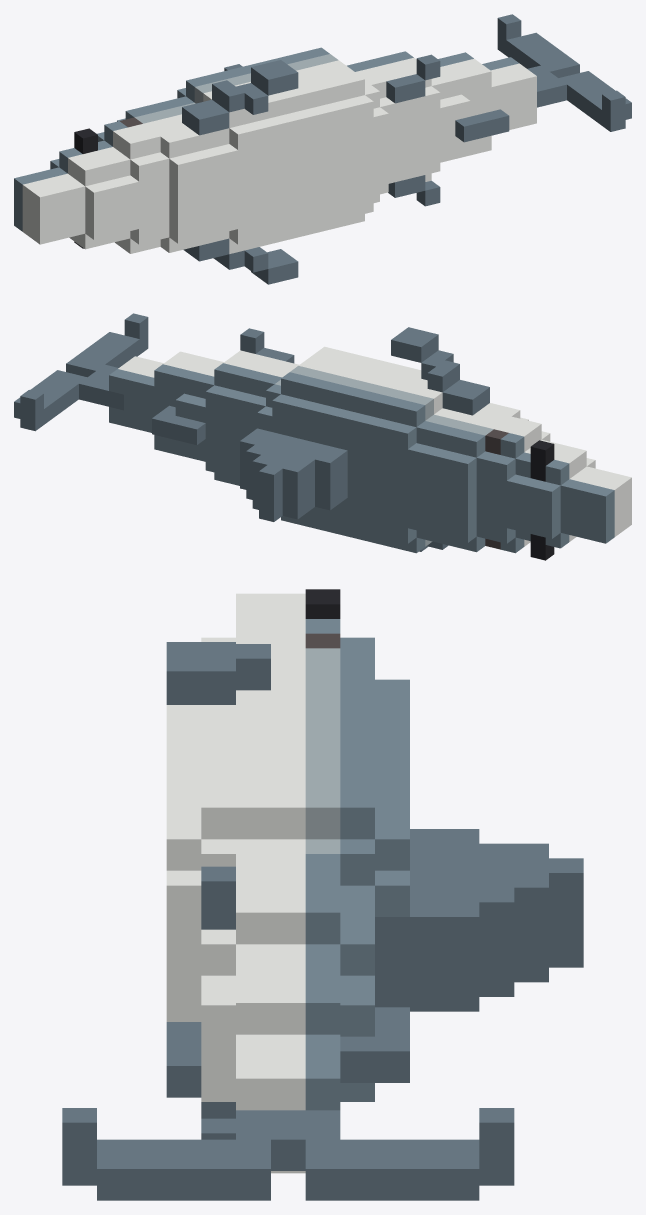
File: voxel_shark.glb
3 views of the same model, one above another, from view 1: azimuth 30°, elevation 25°; view 2: azimuth 150°, elevation 25°; view 3: azimuth 270°, elevation 25° (orthographic). The views are drawn at different scales.
Visible parts, largest first — view 1: GEO-MAT-voxel-belly, GEO-MAT-voxel-fin, GEO-MAT-voxel-top, GEO-MAT-voxel-mid, GEO-MAT-voxel-eye; view 2: GEO-MAT-voxel-top, GEO-MAT-voxel-fin, GEO-MAT-voxel-belly, GEO-MAT-voxel-mid, GEO-MAT-voxel-eye, GEO-MAT-voxel-mouth; view 3: GEO-MAT-voxel-fin, GEO-MAT-voxel-belly, GEO-MAT-voxel-top, GEO-MAT-voxel-mid, GEO-MAT-voxel-eye.
Boxes of the visible parts, box(x1,y1,x2,y2) form: GEO-MAT-voxel-belly: box(22, 57, 536, 253); GEO-MAT-voxel-fin: box(182, 14, 631, 284); GEO-MAT-voxel-top: box(14, 47, 519, 231); GEO-MAT-voxel-mid: box(135, 54, 338, 123); GEO-MAT-voxel-eye: box(74, 128, 97, 248); GEO-MAT-voxel-top: box(109, 363, 614, 553); GEO-MAT-voxel-fin: box(14, 313, 489, 551); GEO-MAT-voxel-belly: box(118, 346, 631, 546); GEO-MAT-voxel-mid: box(275, 366, 493, 546); GEO-MAT-voxel-eye: box(530, 440, 554, 560); GEO-MAT-voxel-mouth: box(485, 429, 508, 549); GEO-MAT-voxel-fin: box(62, 642, 583, 1200); GEO-MAT-voxel-belly: box(166, 593, 305, 1173); GEO-MAT-voxel-top: box(305, 619, 409, 1110); GEO-MAT-voxel-mid: box(305, 648, 340, 853); GEO-MAT-voxel-eye: box(305, 589, 340, 618).
Bounding box in the file's own units: 4.44 × 1.56 × 1.8.
